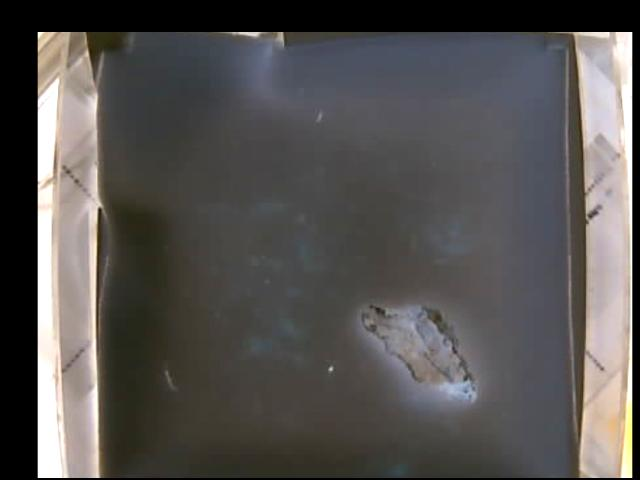Brisk: (360, 302, 474, 397)
